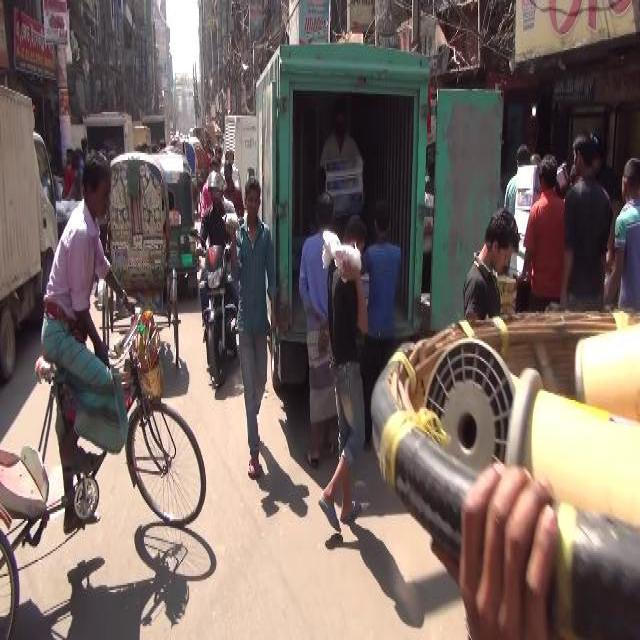motorcycle: (94, 144, 185, 373), (187, 167, 246, 391), (169, 148, 199, 304)
truck: (250, 41, 504, 407), (0, 80, 61, 391)
